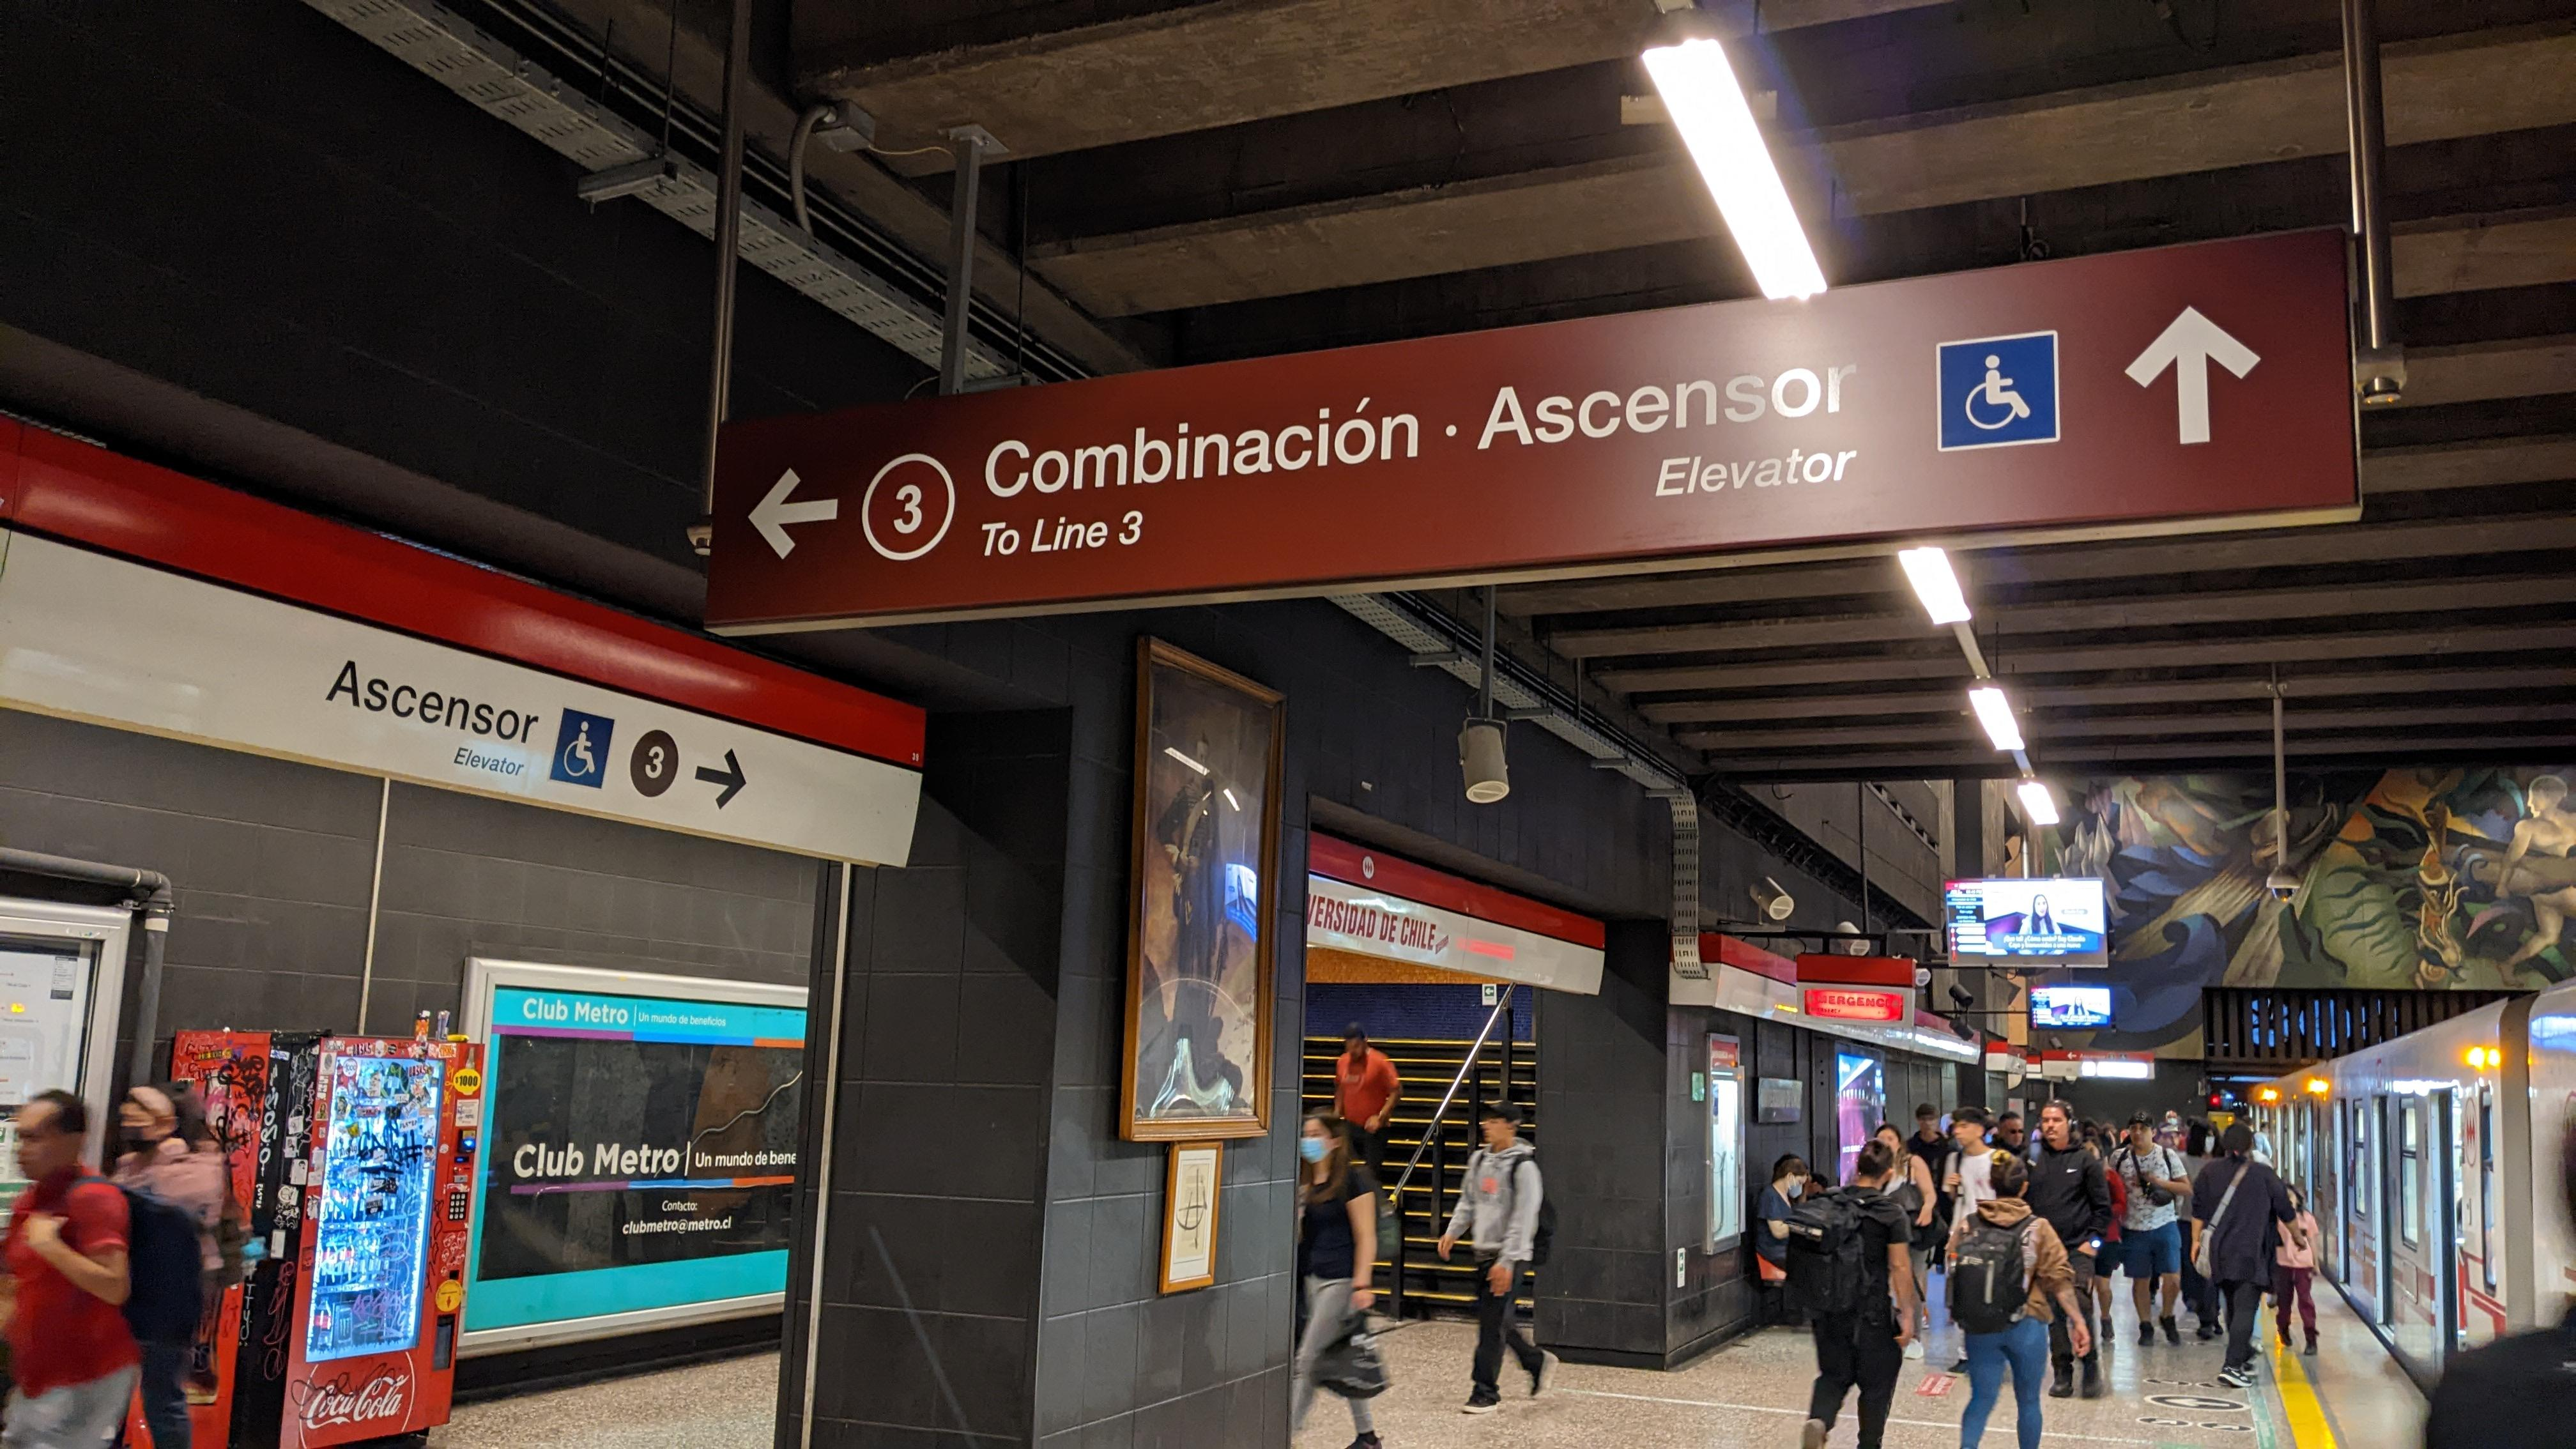handicapped symbol: (1962, 349, 2035, 437), (563, 718, 598, 778)
left arrow: (747, 464, 840, 561)
right arrow: (692, 743, 750, 814)
up arrow: (2120, 304, 2266, 451)
